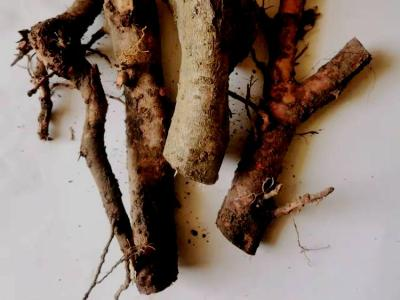Root: (18, 0, 370, 294)
